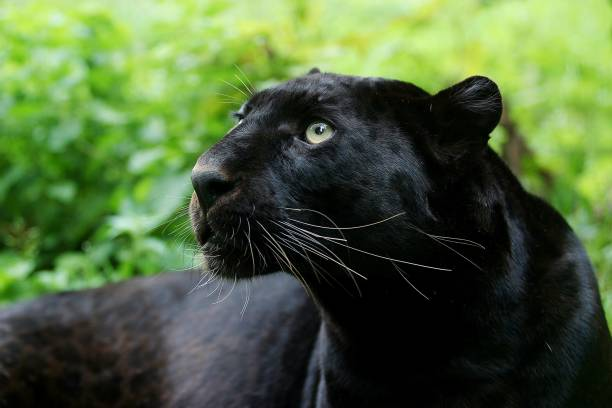panther: (162, 63, 531, 323)
